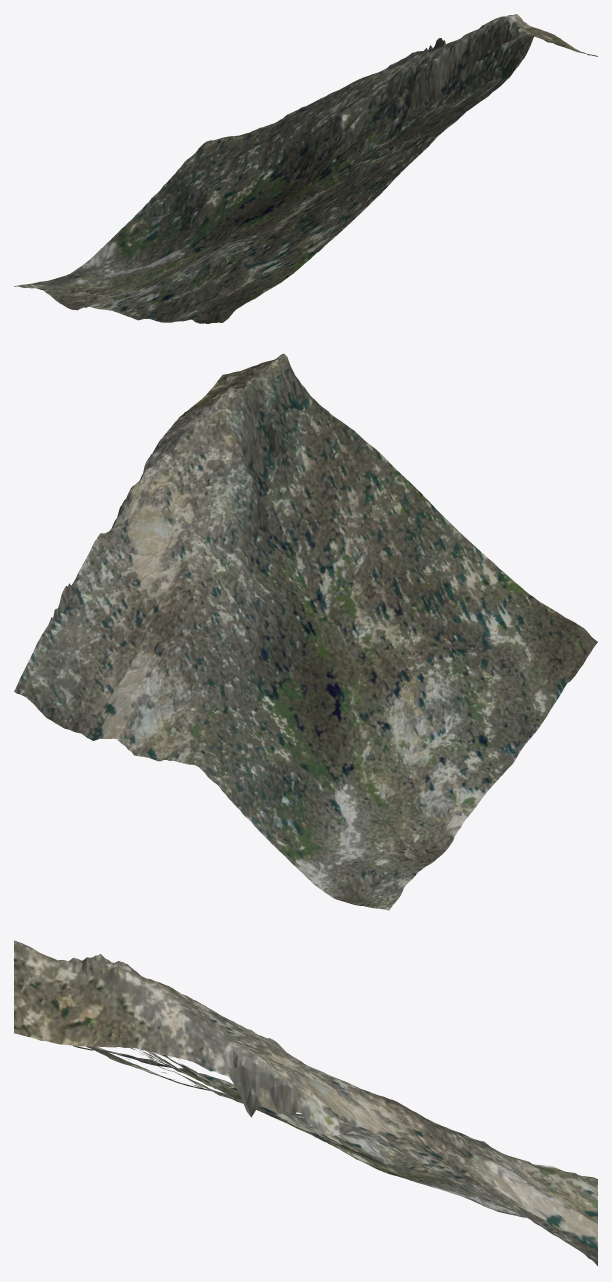
The picture shows the model from 3 angles, top to bottom: view 1: azimuth 30°, elevation 25°; view 2: azimuth 150°, elevation 25°; view 3: azimuth 270°, elevation 25°; orthographic projection. The views are drawn at different scales.
Size of the model in its own units: 500 by 422 by 482.
1 material, 1 textured.
